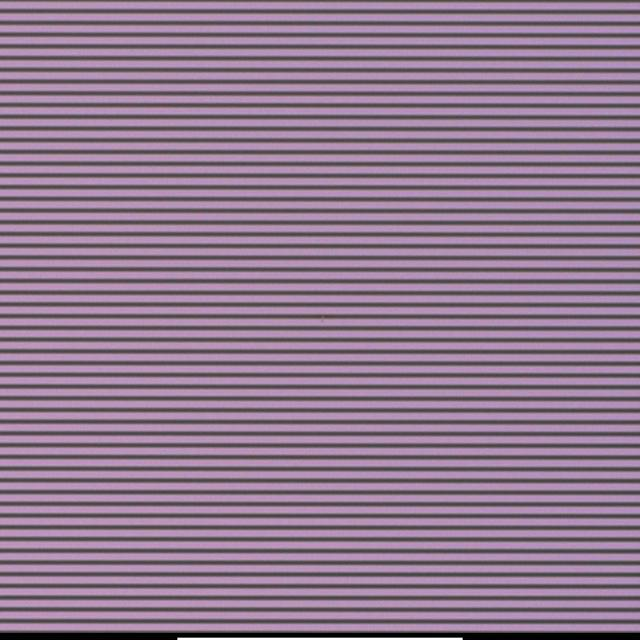03_intrusion: (318, 312, 330, 327)
